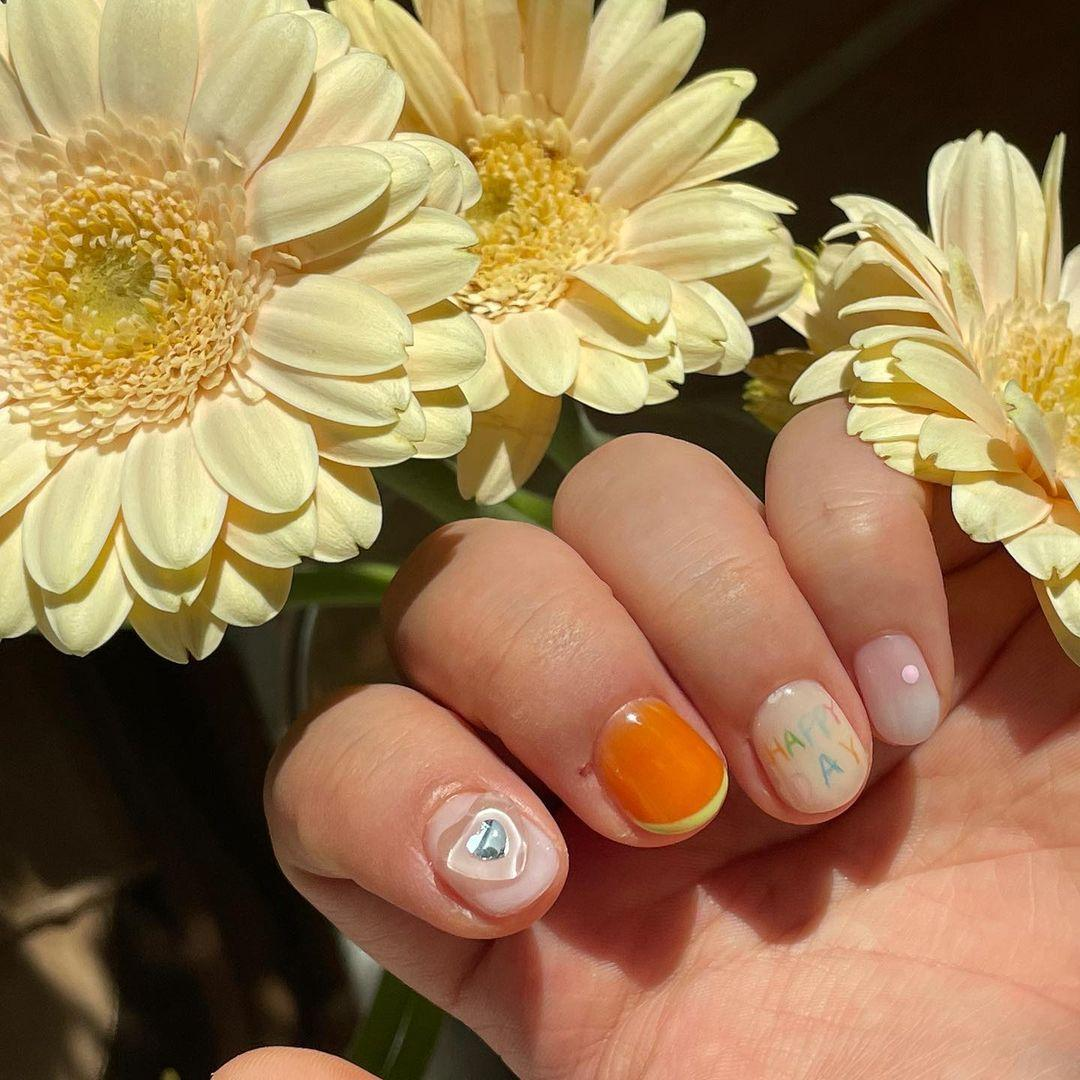nail: (590, 694, 729, 838), (423, 785, 560, 921), (749, 676, 871, 819), (852, 629, 941, 746)
